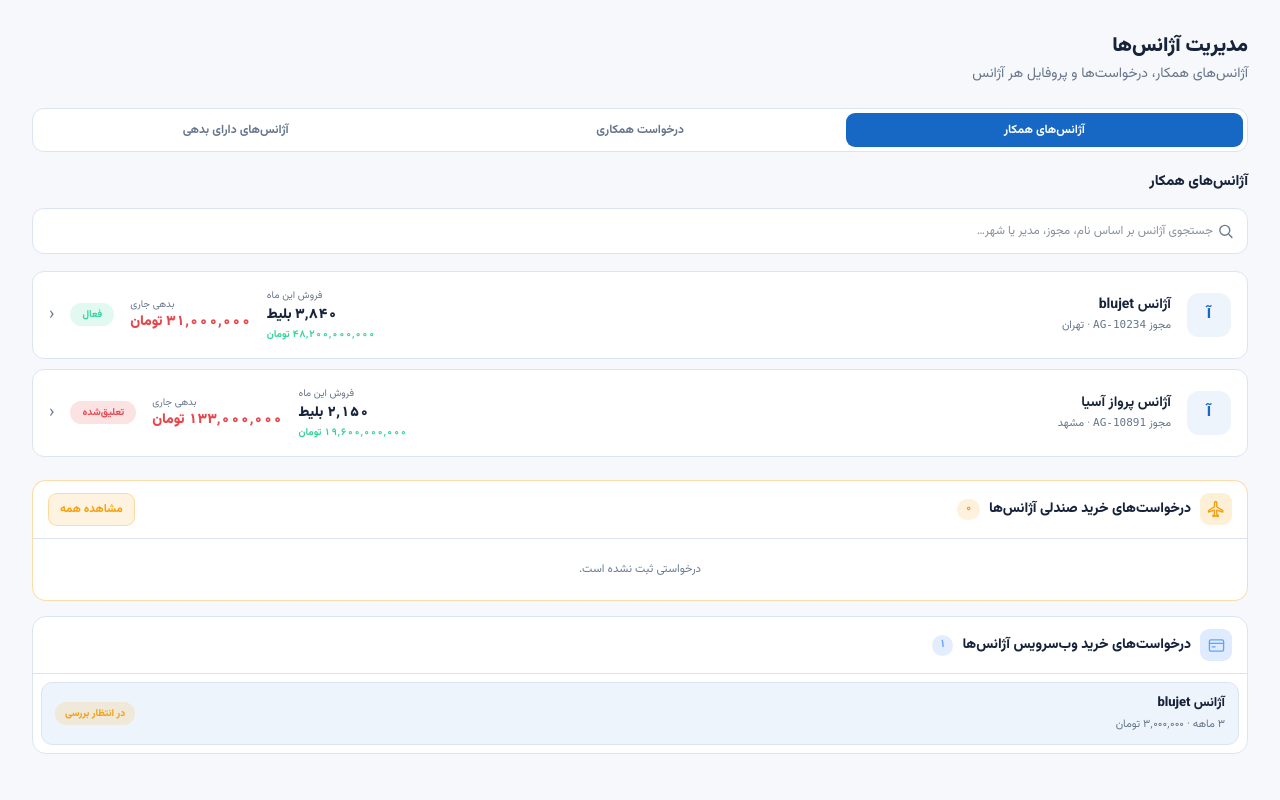
Scenario: AgenciesListPage › Commercial Manager: web service request preview opens the real-data detail modal
expect the heading "درخواست‌های خرید وب‌سرویس آژانس‌ها" is shown: met, box [962,635,1191,655]
What coordinates should you click on to do the following:
click the text "۳ ماهه · ۳٬۰۰۰٬۰۰۰ تومان"
I would click on:
 (640, 714)
Its box is [41,682,1239,745].
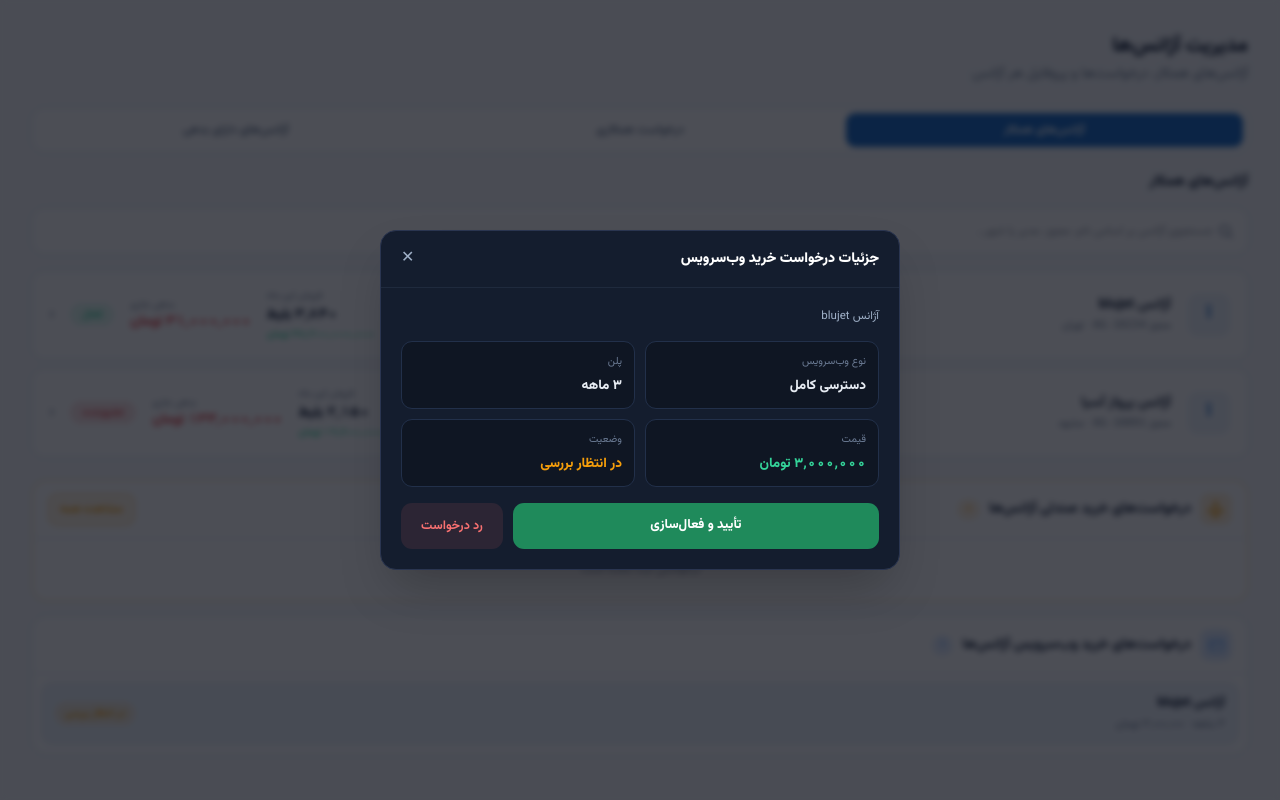
expect the heading "جزئیات درخواست خرید وب‌سرویس" is shown: met, box [681,249,879,269]
expect the button "تأیید و فعال‌سازی" is shown: met, box [513,503,879,549]
